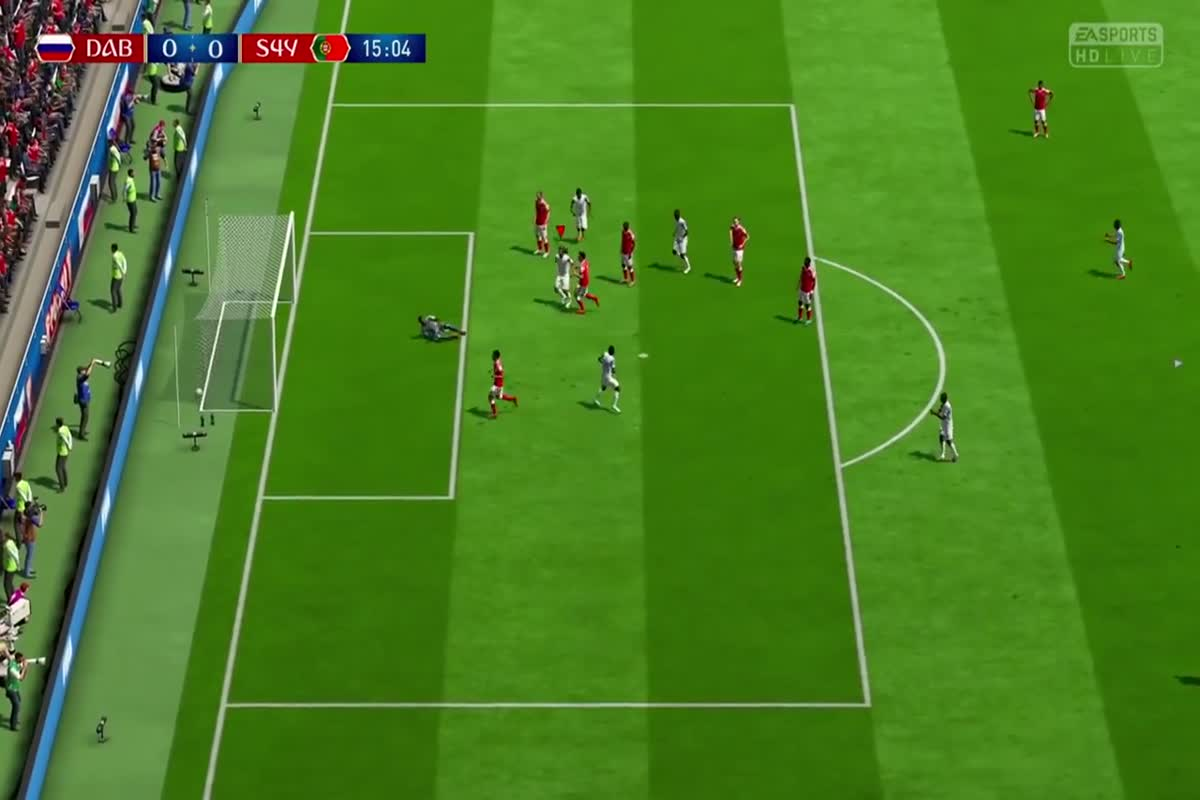ball: (190, 380, 211, 399)
